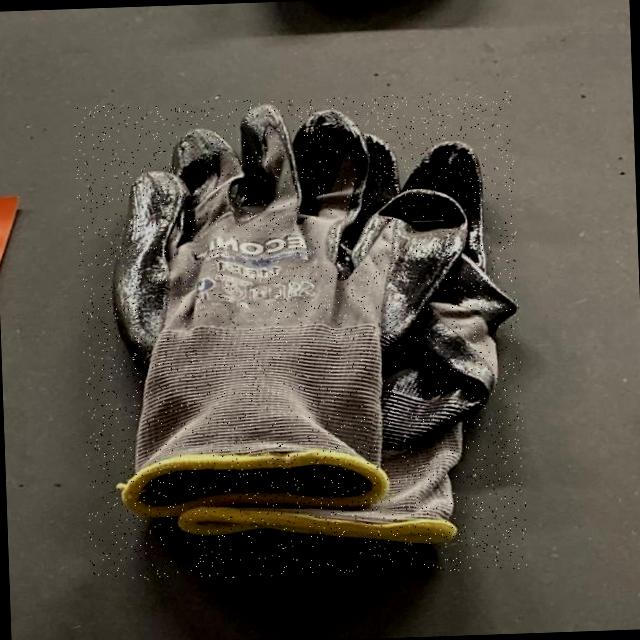gloves: (90, 105, 517, 562)
